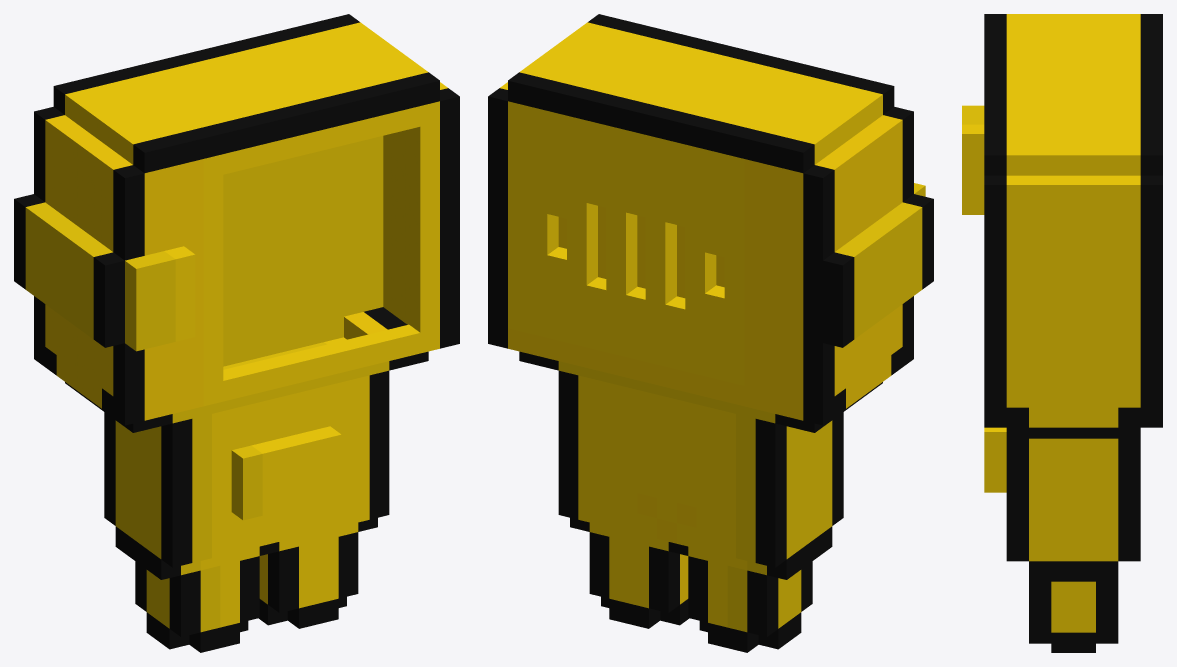
Rendered from body_yellow.glb.
The picture shows the model from 3 angles, left to right: view 1: azimuth 30°, elevation 25°; view 2: azimuth 150°, elevation 25°; view 3: azimuth 270°, elevation 25°; orthographic projection.
Visible parts, largest first — view 1: bb0 body; view 2: bb0 body; view 3: bb0 body.
Part boxes in pixels (<box>): bb0 body: <box>14,14,459,652</box>; bb0 body: <box>488,14,933,652</box>; bb0 body: <box>962,14,1162,652</box>.
Bounding box in the file's own units: 18 × 26 × 9.
